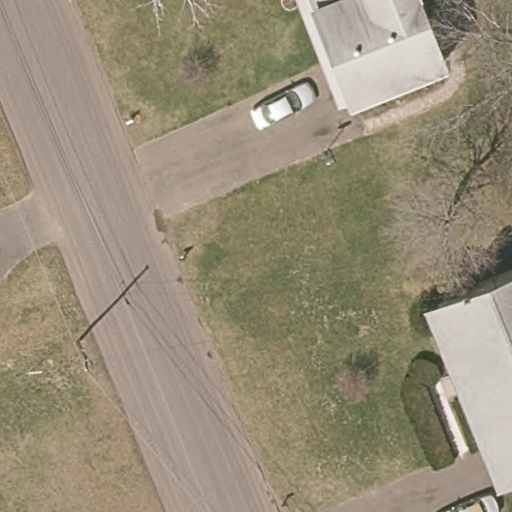DT: (74, 353, 95, 376)
